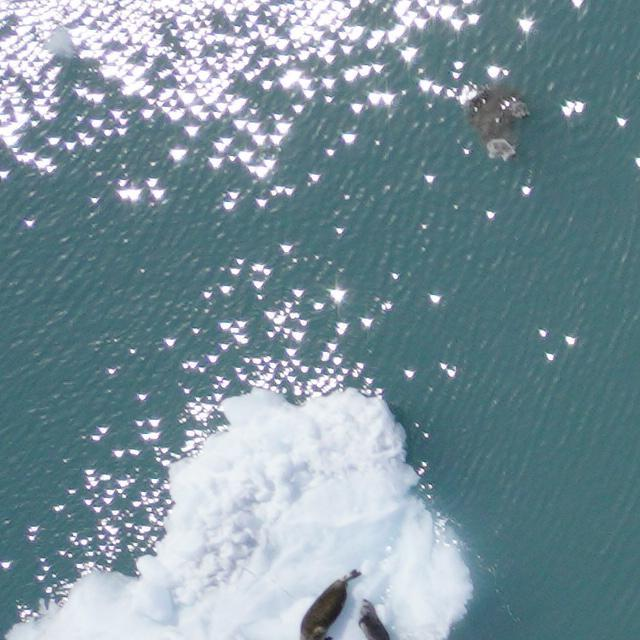seal: (297, 557, 363, 640), (349, 596, 390, 640)
